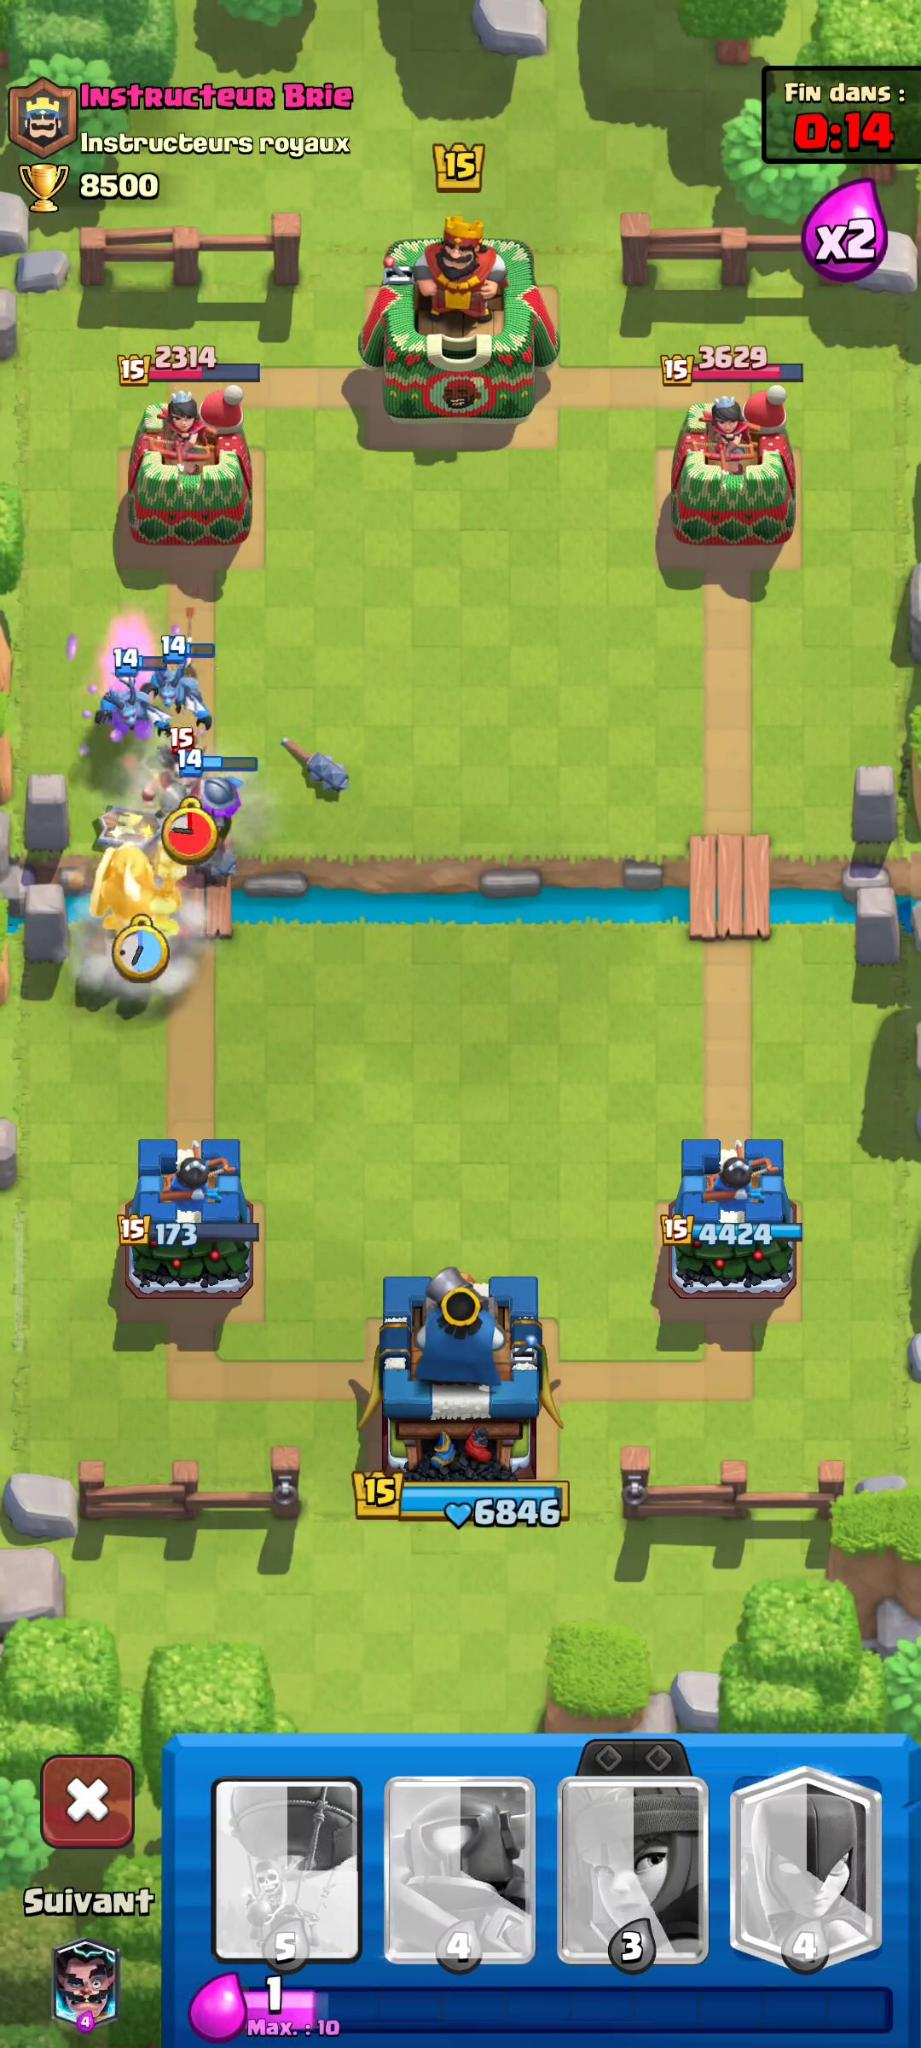gargouille: (80, 666, 154, 741), (150, 654, 195, 716)
mousquetaire: (192, 755, 261, 842)
